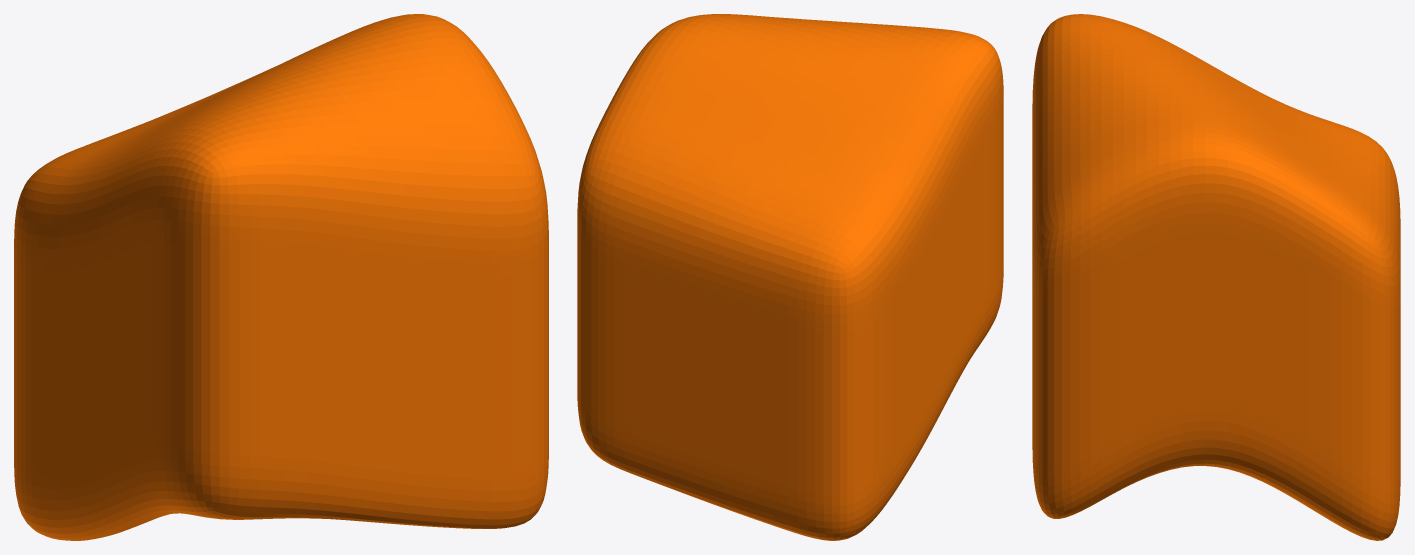
The picture shows the model from 3 angles, left to right: view 1: azimuth 30°, elevation 25°; view 2: azimuth 150°, elevation 25°; view 3: azimuth 270°, elevation 25°; orthographic projection. The views are drawn at different scales.
Parts seen in each view (by area): view 1: smooth_1_base.034; view 2: smooth_1_base.034; view 3: smooth_1_base.034.
Boxes of the visible parts, <box> form: smooth_1_base.034: <box>14,14,548,540</box>; smooth_1_base.034: <box>577,14,1003,540</box>; smooth_1_base.034: <box>1032,14,1400,540</box>.
Size of the model in its own units: 60 by 79.58 by 60.
